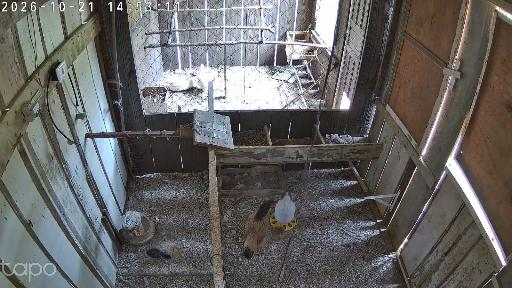frango: (122, 210, 144, 239)
galinha: (238, 199, 278, 256)
pato: (156, 71, 196, 91), (197, 64, 214, 90)
pintinho: (147, 248, 171, 263), (272, 226, 286, 243), (169, 243, 181, 258)
